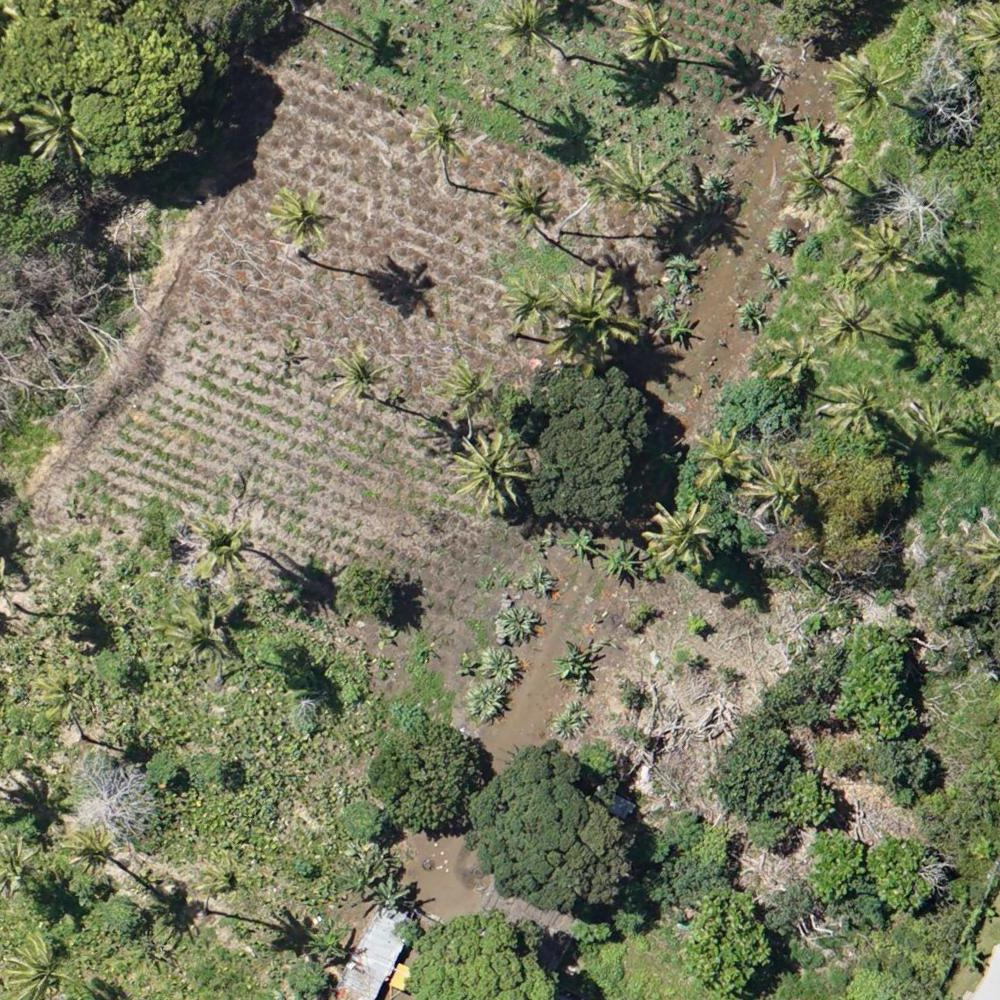Palm: (554, 268, 638, 358), (591, 141, 674, 224), (450, 433, 528, 506), (828, 51, 903, 124), (403, 97, 474, 163), (487, 1, 562, 62), (853, 218, 920, 286), (495, 274, 563, 340), (648, 499, 713, 568), (789, 144, 854, 210), (496, 167, 565, 229), (615, 5, 682, 66), (161, 604, 226, 666), (267, 185, 334, 245), (691, 426, 753, 490), (190, 511, 254, 572), (1, 935, 66, 995), (747, 455, 803, 523), (824, 379, 884, 435), (34, 668, 95, 723), (763, 329, 829, 378), (818, 293, 874, 348), (66, 822, 116, 883), (331, 348, 390, 399), (448, 357, 497, 409)
